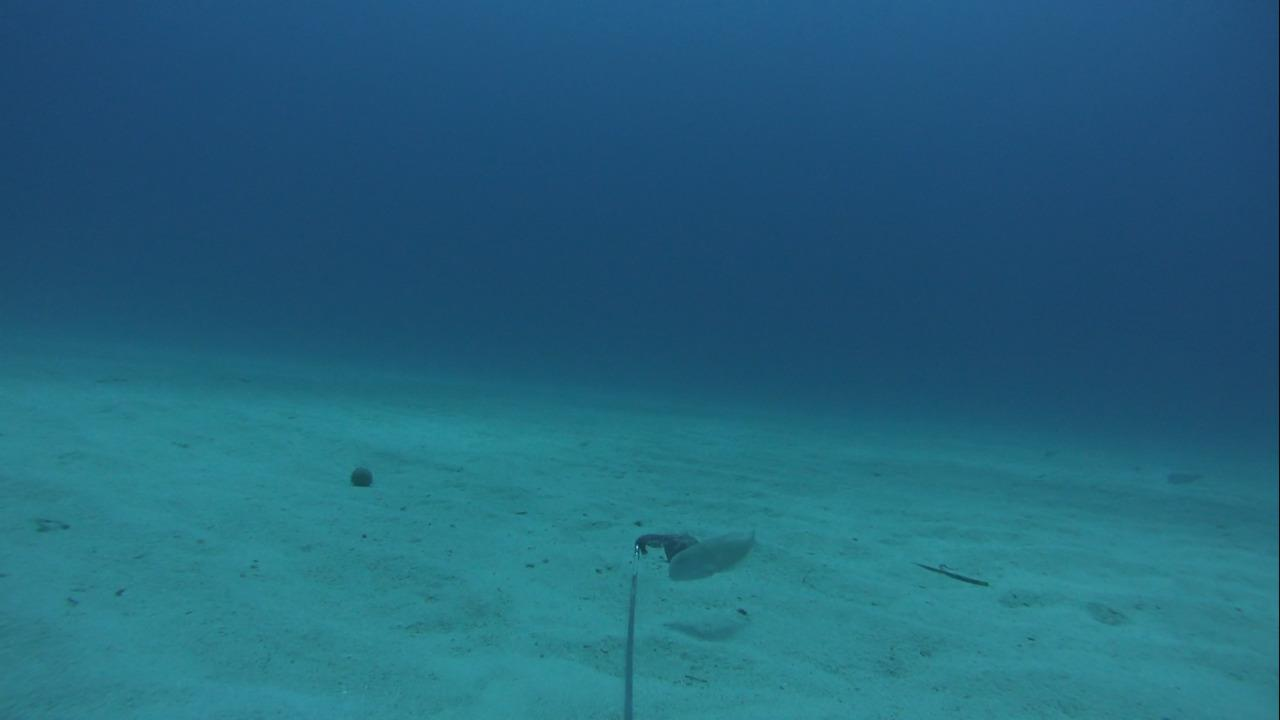raor: (665, 528, 767, 584)
